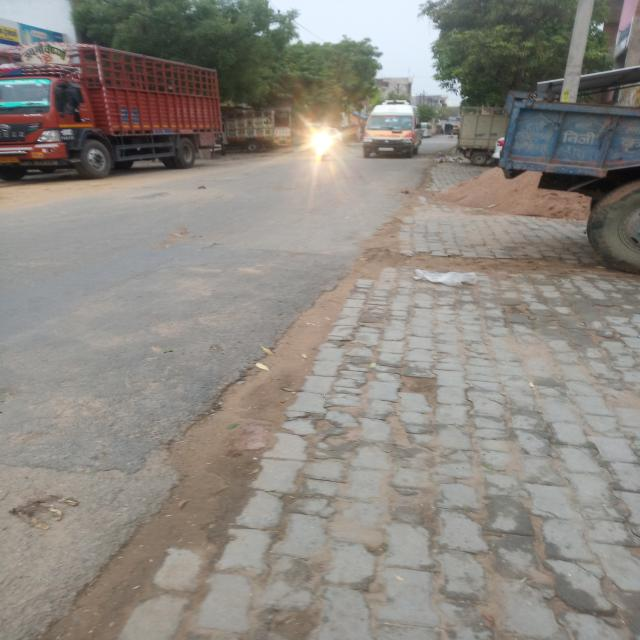Truck: (0, 44, 222, 180), (362, 100, 422, 158)
